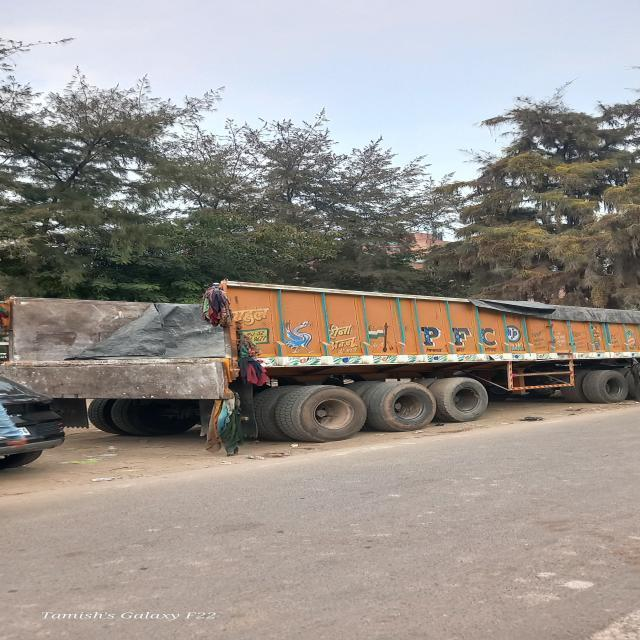uncovered: (10, 254, 640, 460)
